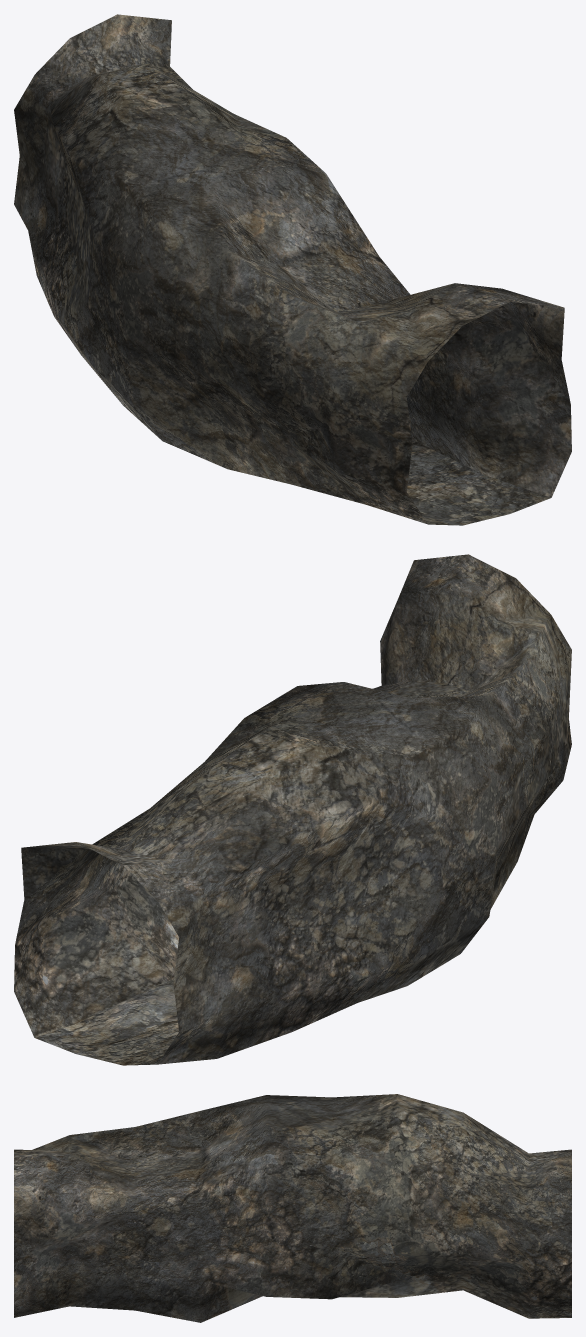
File: cave_piece_03.glb
3 renders of one model, top to bottom at view 1: azimuth 30°, elevation 25°; view 2: azimuth 150°, elevation 25°; view 3: azimuth 270°, elevation 25°, orthographic. The views are drawn at different scales.
Visible parts, largest first — view 1: mine_03_mine_0; view 2: mine_03_mine_0; view 3: mine_03_mine_0.
Boxes of the visible parts, box(x1,y1,x2,y2) form: mine_03_mine_0: box(14, 14, 571, 525); mine_03_mine_0: box(14, 554, 571, 1065); mine_03_mine_0: box(14, 1094, 571, 1322).
Size of the model in its own units: 5.77 by 5.33 by 14.57.
1 material, 1 textured.
